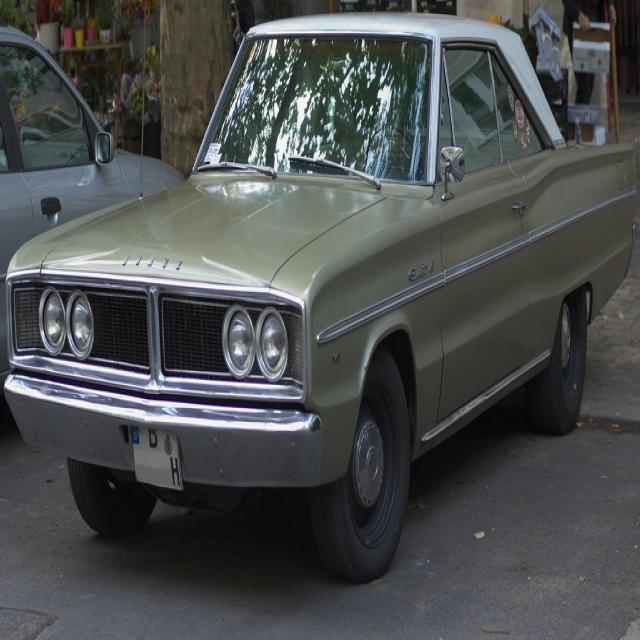Passenger Car: (5, 14, 635, 585)
